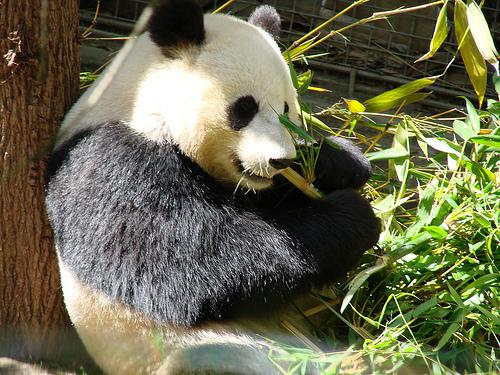panda: (46, 0, 379, 374)
